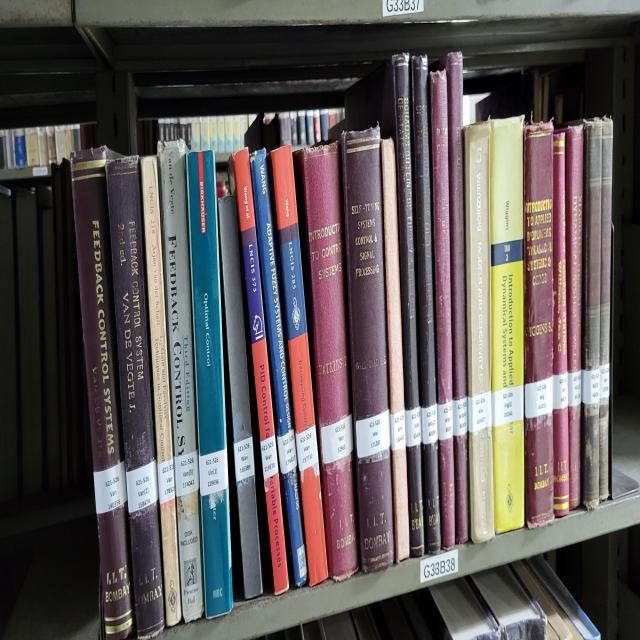Book: (345, 54, 425, 557), (71, 146, 134, 639), (295, 141, 359, 579), (106, 157, 164, 636), (271, 146, 328, 584), (251, 149, 308, 587), (234, 149, 289, 593), (342, 127, 394, 571), (159, 141, 202, 620), (188, 152, 232, 617), (478, 116, 525, 533), (140, 157, 181, 625), (218, 195, 262, 598), (411, 57, 441, 555), (439, 51, 469, 544), (465, 124, 495, 541), (381, 138, 410, 563), (524, 122, 554, 528), (430, 70, 455, 549), (581, 119, 602, 509), (565, 124, 584, 509), (552, 130, 570, 517), (599, 116, 612, 501)
Label: (94, 460, 128, 514), (126, 460, 159, 514), (356, 409, 390, 457), (321, 414, 352, 463), (199, 446, 229, 495), (491, 384, 524, 427), (174, 449, 199, 498), (296, 425, 319, 476), (525, 376, 552, 419), (234, 436, 255, 484), (468, 392, 491, 433), (260, 436, 279, 482), (278, 430, 298, 473), (158, 457, 175, 503), (581, 368, 600, 406), (421, 403, 438, 444), (390, 409, 406, 452), (552, 371, 568, 411), (405, 406, 421, 446), (452, 398, 468, 436), (438, 400, 452, 441), (568, 371, 581, 406), (600, 363, 610, 403)
